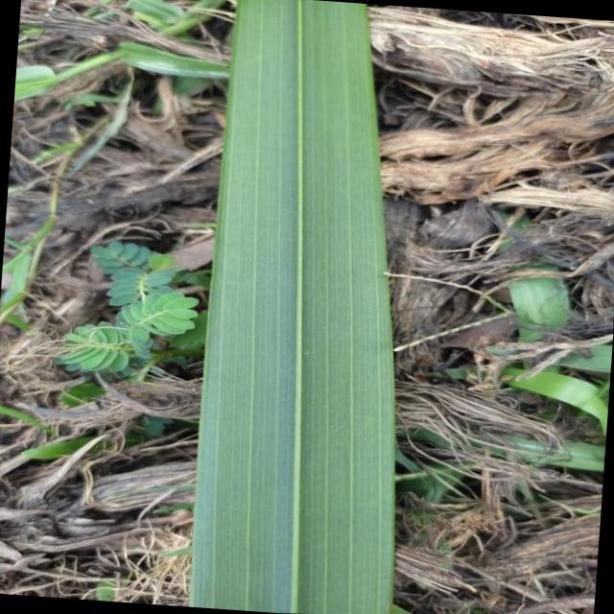Healthy: (187, 0, 401, 614)
